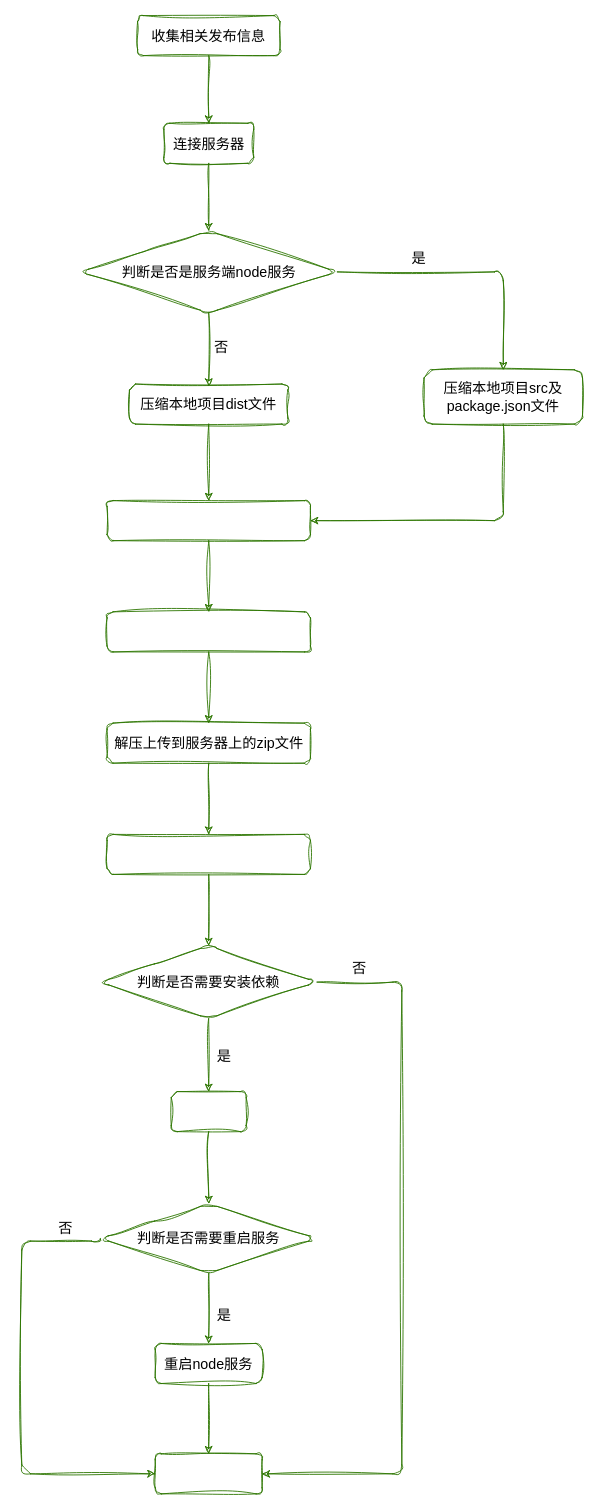
The diagram is 598 pixels wide and 1509 high, and some of its shapes have lost their labels. Each missing label, with the centre of its shape:
"删除上传到服务器上的zip文件" goes at pixel 208 853.
"删除本地压缩好的zip压缩文件" goes at pixel 208 631.
"安装依赖" goes at pixel 208 1111.
"将压缩好的文件上传到服务器" goes at pixel 208 520.
"部署完成" goes at pixel 208 1473.
